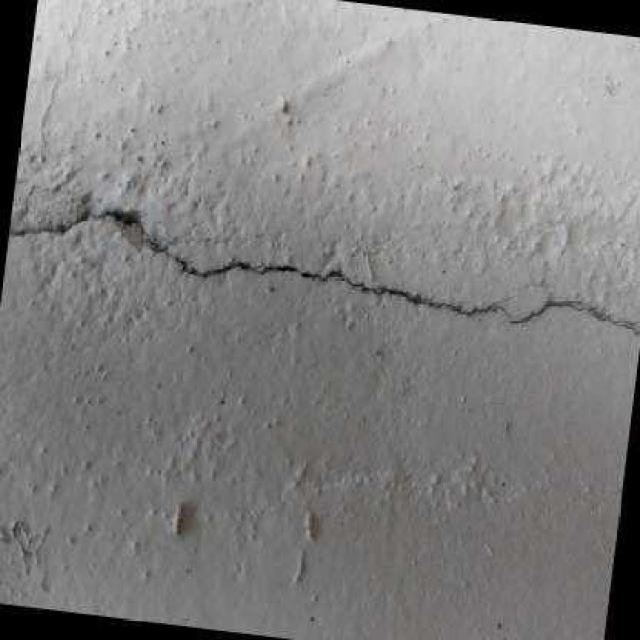D00: (8, 214, 640, 334)
